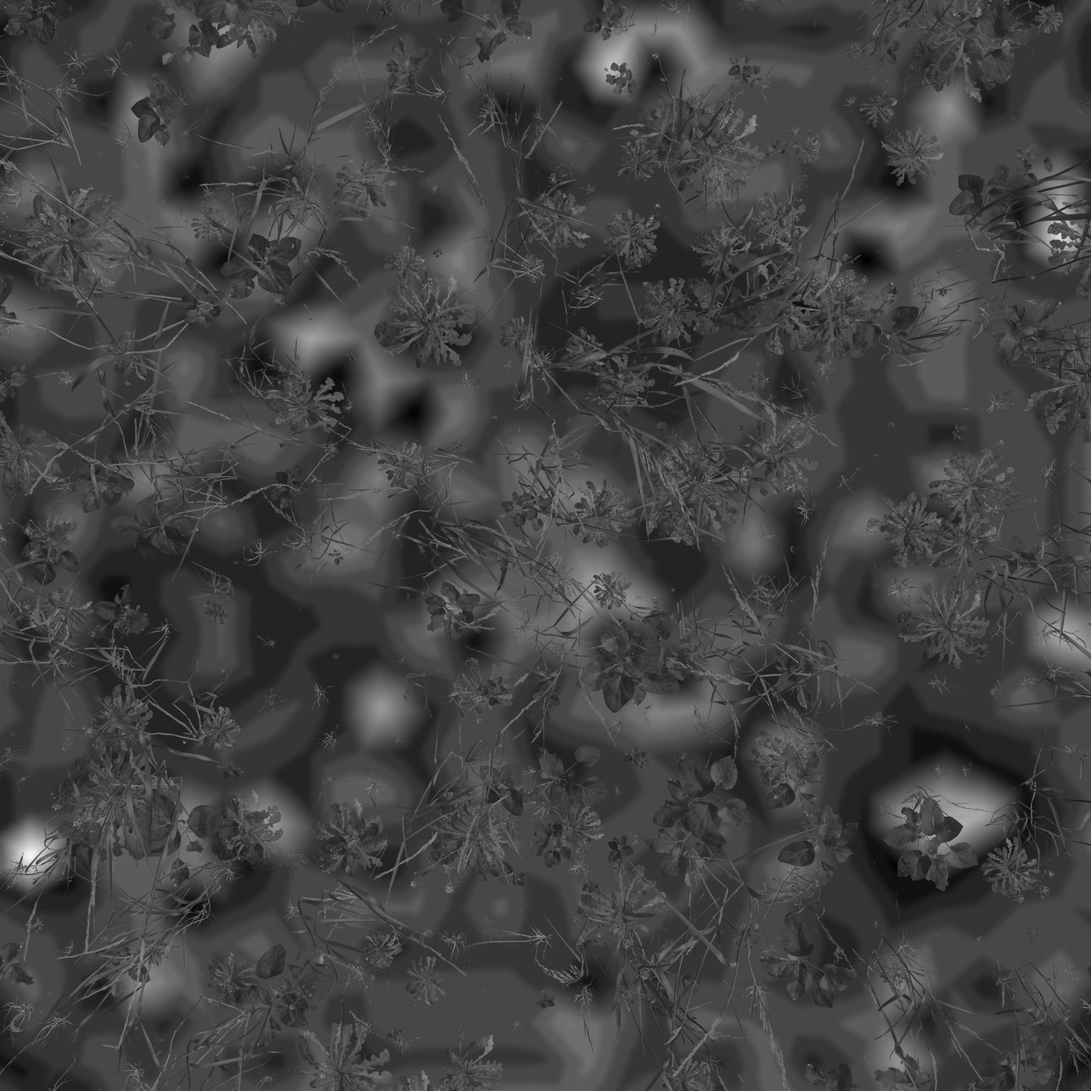landmine: (118, 543, 284, 718), (535, 242, 721, 397), (868, 729, 1031, 885)
